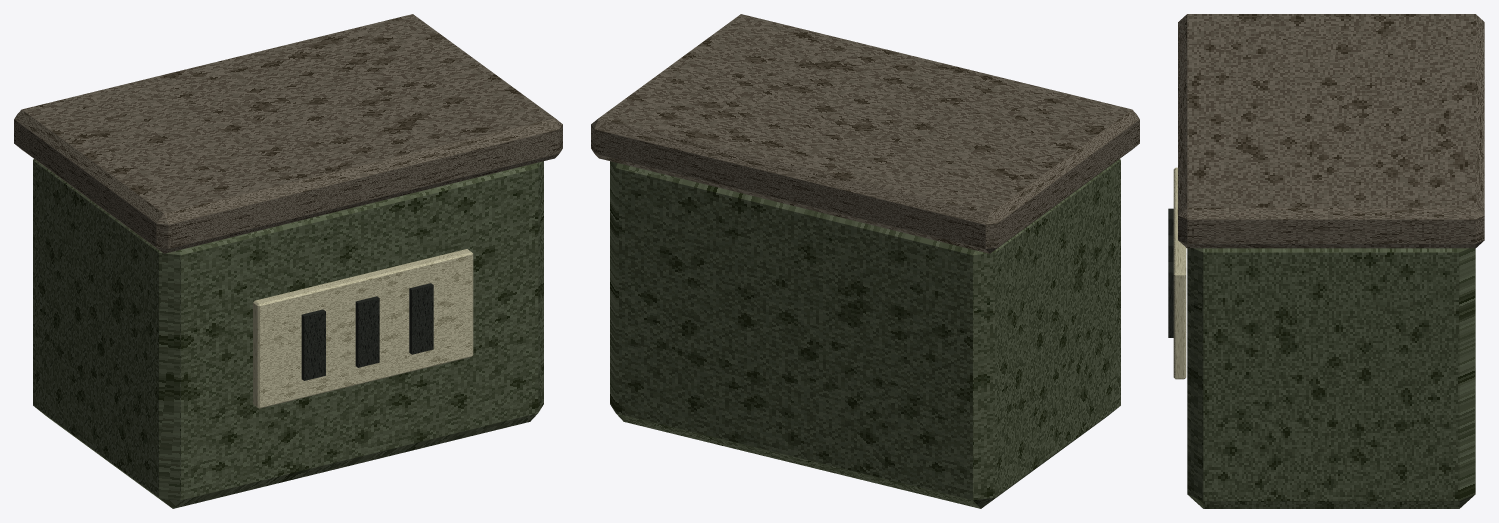
The model's file is ammo.glb.
The picture shows the model from 3 angles, left to right: view 1: azimuth 30°, elevation 25°; view 2: azimuth 150°, elevation 25°; view 3: azimuth 270°, elevation 25°; orthographic projection.
Visible parts, largest first — view 1: Ammo_tin, Ammo_lid, Ammo_label, Bullet_symbol.001, Bullet_symbol.002, Bullet_symbol; view 2: Ammo_tin, Ammo_lid; view 3: Ammo_tin, Ammo_lid, Ammo_label, Bullet_symbol.002.
Boxes of the visible parts, x1=… form: Ammo_tin: x1=33, y1=159, x2=543, y2=508; Ammo_lid: x1=14, y1=14, x2=562, y2=253; Ammo_label: x1=253, y1=249, x2=473, y2=408; Bullet_symbol.001: x1=355, y1=296, x2=379, y2=367; Bullet_symbol.002: x1=409, y1=283, x2=433, y2=354; Bullet_symbol: x1=301, y1=309, x2=325, y2=380; Ammo_tin: x1=610, y1=159, x2=1120, y2=508; Ammo_lid: x1=591, y1=14, x2=1139, y2=253; Ammo_tin: x1=1187, y1=248, x2=1475, y2=508; Ammo_lid: x1=1178, y1=14, x2=1484, y2=248; Ammo_label: x1=1173, y1=167, x2=1186, y2=379; Bullet_symbol.002: x1=1168, y1=262, x2=1173, y2=337.
Size of the model in its own units: 0.264 by 0.1895 by 0.1755.
Materials: 4 (4 with a texture image).
